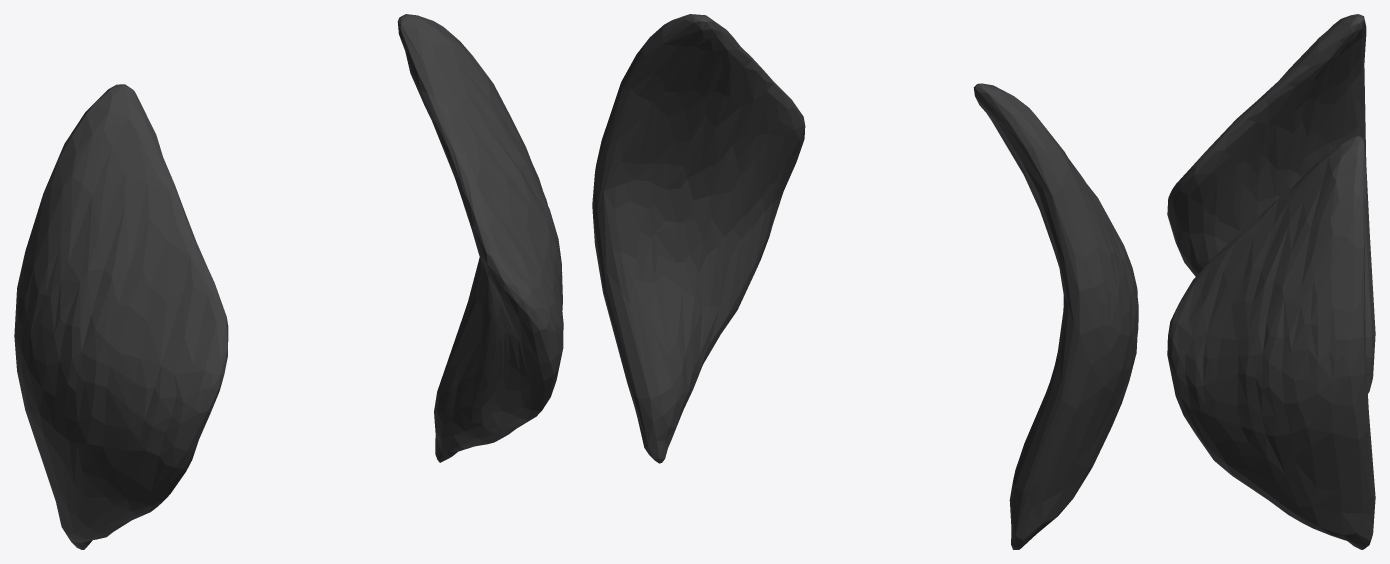
File: m_triceps_brachii_long.glb
The picture shows the model from 3 angles, left to right: view 1: azimuth 30°, elevation 25°; view 2: azimuth 150°, elevation 25°; view 3: azimuth 270°, elevation 25°; orthographic projection. The views are drawn at different scales.
Parts seen in each view (by area): view 1: m_triceps_brachii_long; view 2: m_triceps_brachii_long; view 3: m_triceps_brachii_long.
Boxes of the visible parts, x1,y1,x2,y2 form: m_triceps_brachii_long: (14, 14, 563, 549); m_triceps_brachii_long: (592, 14, 1138, 549); m_triceps_brachii_long: (1167, 14, 1375, 549).
Bounding box in the file's own units: 0.00836 × 0.00707 × 0.00336.
Materials: 1 (1 with a texture image).
